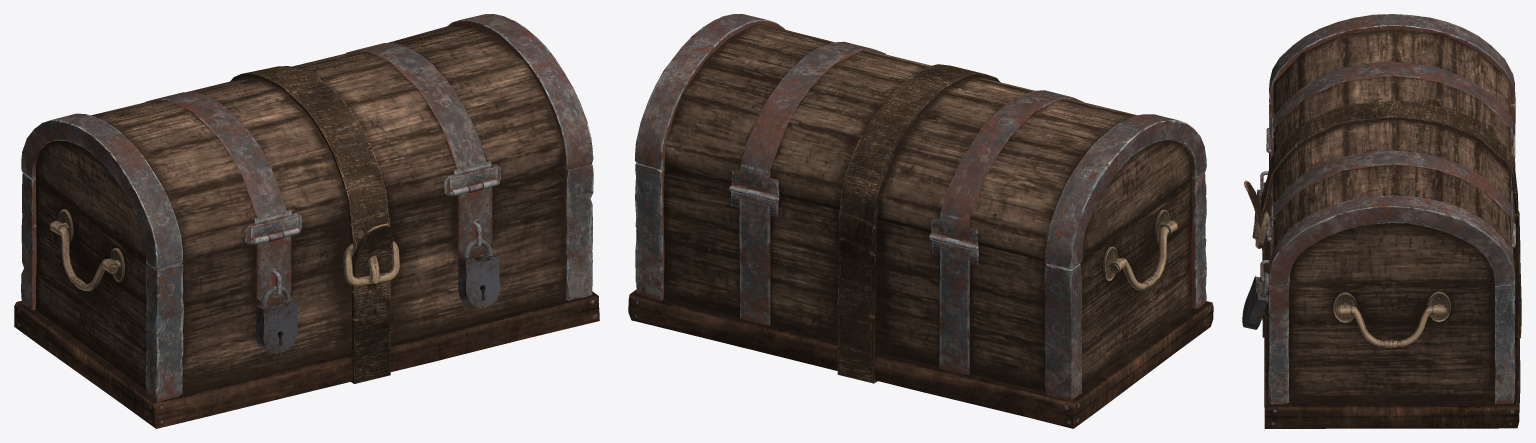
File: chest.obj
The picture shows the model from 3 angles, left to right: view 1: azimuth 30°, elevation 25°; view 2: azimuth 150°, elevation 25°; view 3: azimuth 270°, elevation 25°; orthographic projection. The views are drawn at different scales.
Visible parts, largest first — view 1: g_Treasure_Chest_Lowpoly3_polySurface49_Treasure_Chest_Lowpoly3_, g_Treasure_Chest_Lowpoly3_Lucchetto_Treasure_Chest_Lowpoly3_grou; view 2: g_Treasure_Chest_Lowpoly3_polySurface49_Treasure_Chest_Lowpoly3_; view 3: g_Treasure_Chest_Lowpoly3_polySurface49_Treasure_Chest_Lowpoly3_, g_Treasure_Chest_Lowpoly3_Lucchetto_Treasure_Chest_Lowpoly3_grou.
Part boxes in pixels (x1,y1,x2,y2): g_Treasure_Chest_Lowpoly3_polySurface49_Treasure_Chest_Lowpoly3_: (14,14,599,428); g_Treasure_Chest_Lowpoly3_Lucchetto_Treasure_Chest_Lowpoly3_grou: (458,239,500,307); g_Treasure_Chest_Lowpoly3_polySurface49_Treasure_Chest_Lowpoly3_: (628,14,1213,428); g_Treasure_Chest_Lowpoly3_polySurface49_Treasure_Chest_Lowpoly3_: (1244,14,1521,428); g_Treasure_Chest_Lowpoly3_Lucchetto_Treasure_Chest_Lowpoly3_grou: (1242,272,1268,329).
Size of the model in its own units: 4.21 by 2.16 by 2.43.
Materials: 1 (1 with a texture image).
